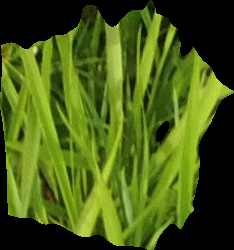grass: (1, 1, 233, 248)
